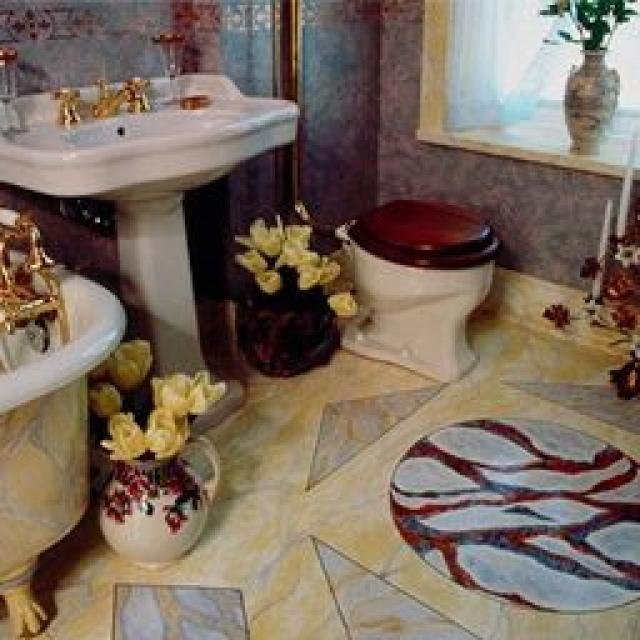2001: (422, 0, 632, 178)
bath: (0, 208, 122, 632)
bouquet: (90, 335, 228, 570), (230, 212, 352, 372), (535, 0, 632, 152)
candle in holder: (575, 160, 638, 402)
sink basin: (0, 72, 292, 375)
toilet bowl: (330, 195, 498, 378)
